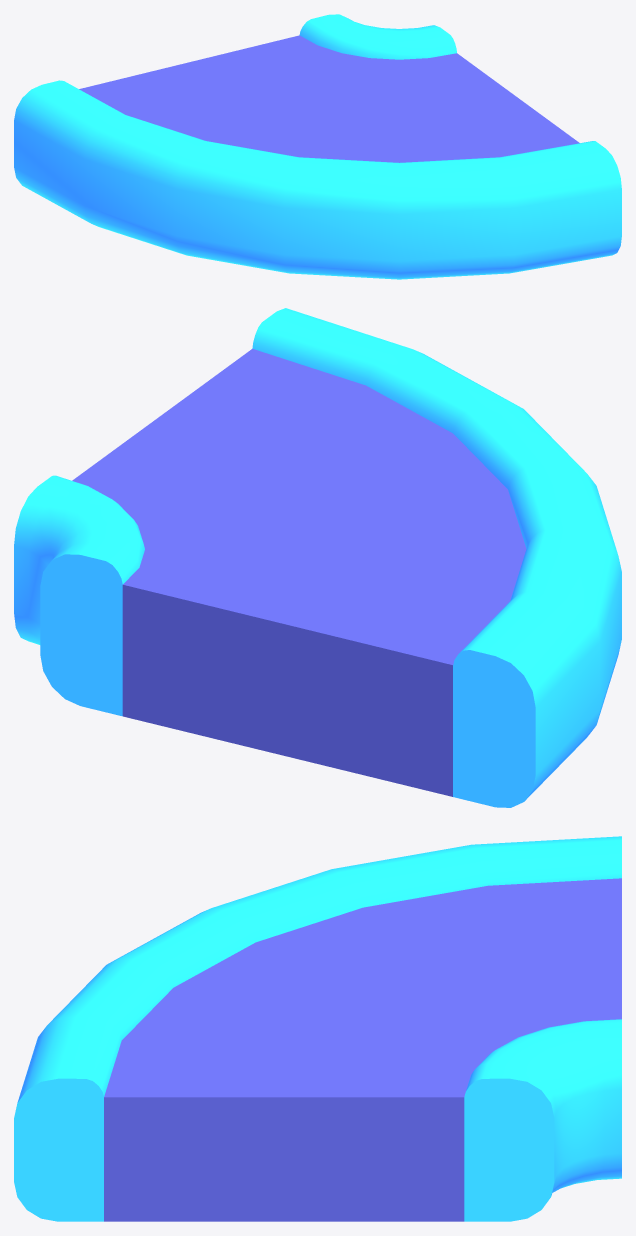
Rendered from blue_corner.fbx.
3 views of the same model, one above another, from view 1: azimuth 30°, elevation 25°; view 2: azimuth 150°, elevation 25°; view 3: azimuth 270°, elevation 25° (orthographic). The views are drawn at different scales.
Parts seen in each view (by area): view 1: Cube.026; view 2: Cube.026; view 3: Cube.026.
Boxes of the visible parts, box(x1,y1,x2,y2) form: Cube.026: box(14, 14, 621, 279); Cube.026: box(14, 308, 621, 807); Cube.026: box(14, 836, 621, 1221).
Bounding box in the file's own units: 270 × 70 × 270.
